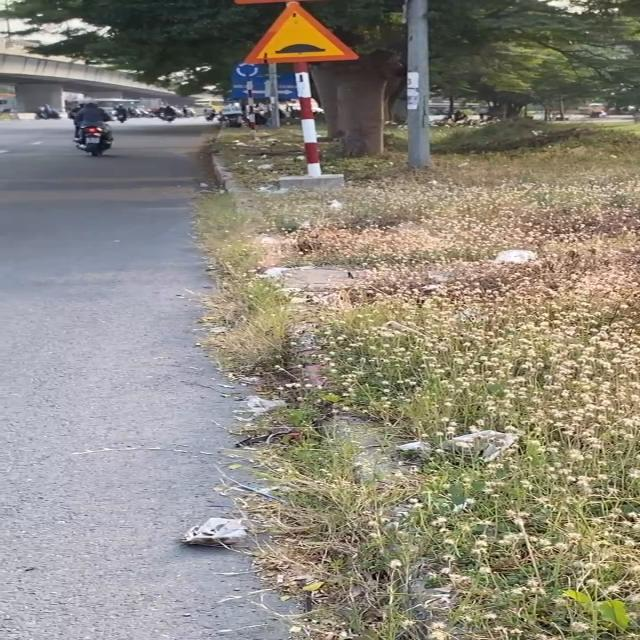221-duong-go-ghe: (244, 0, 362, 64)
303-noi-giao-nhau-chay-theo-vong-xuyen: (234, 62, 262, 78)
